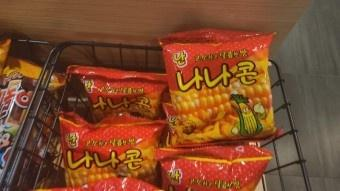snack: (157, 28, 283, 148)
